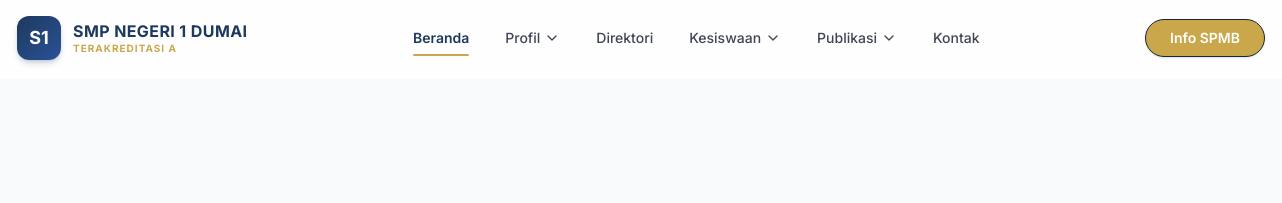
Navbar › Dropdown navigasi saat hover › menampilkan dropdown Publikasi saat mouseEnter
The image size is (1282, 203).
Hover over the element "Publikasi": (857, 38) 805,20 -> 909,56
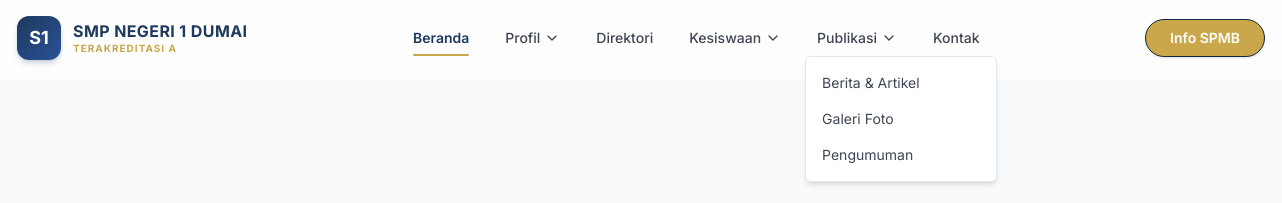
Expected: the link "Berita & Artikel" is shown, 822,74 -> 920,91
Expected: the link "Galeri Foto" is shown, 822,110 -> 894,127
Expected: the link "Pengumuman" is shown, 822,146 -> 913,163
